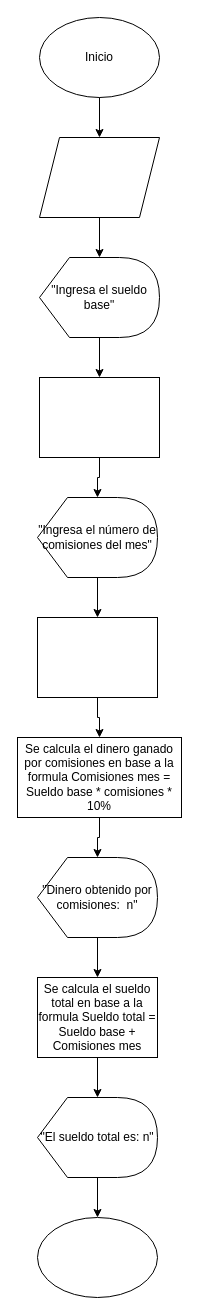
Image size: 199x1315. Some labels were removed from this diagram. Each missing label, with the centre of its shape:
Digitar número de comisiones del mes: (x=97, y=657)
Digitar sueldo base del vendedor: (x=99, y=417)
Fin: (x=97, y=1257)
Sueldo base, Comisiones: (x=99, y=177)
